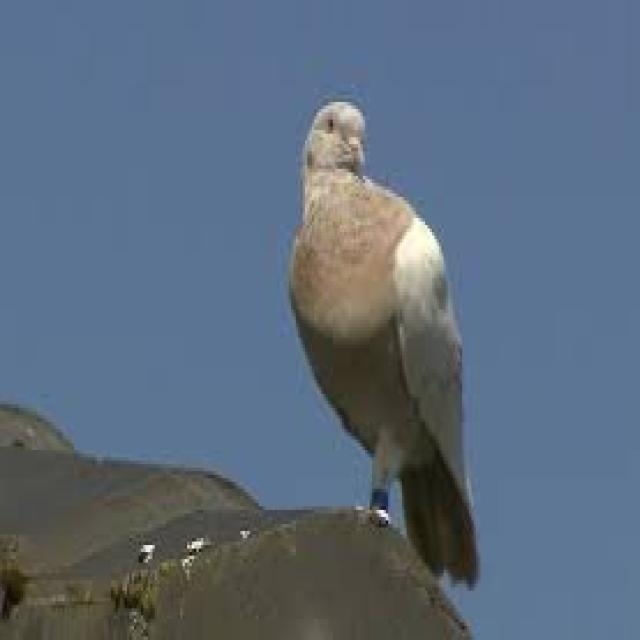Pigeon: (283, 95, 486, 593)
